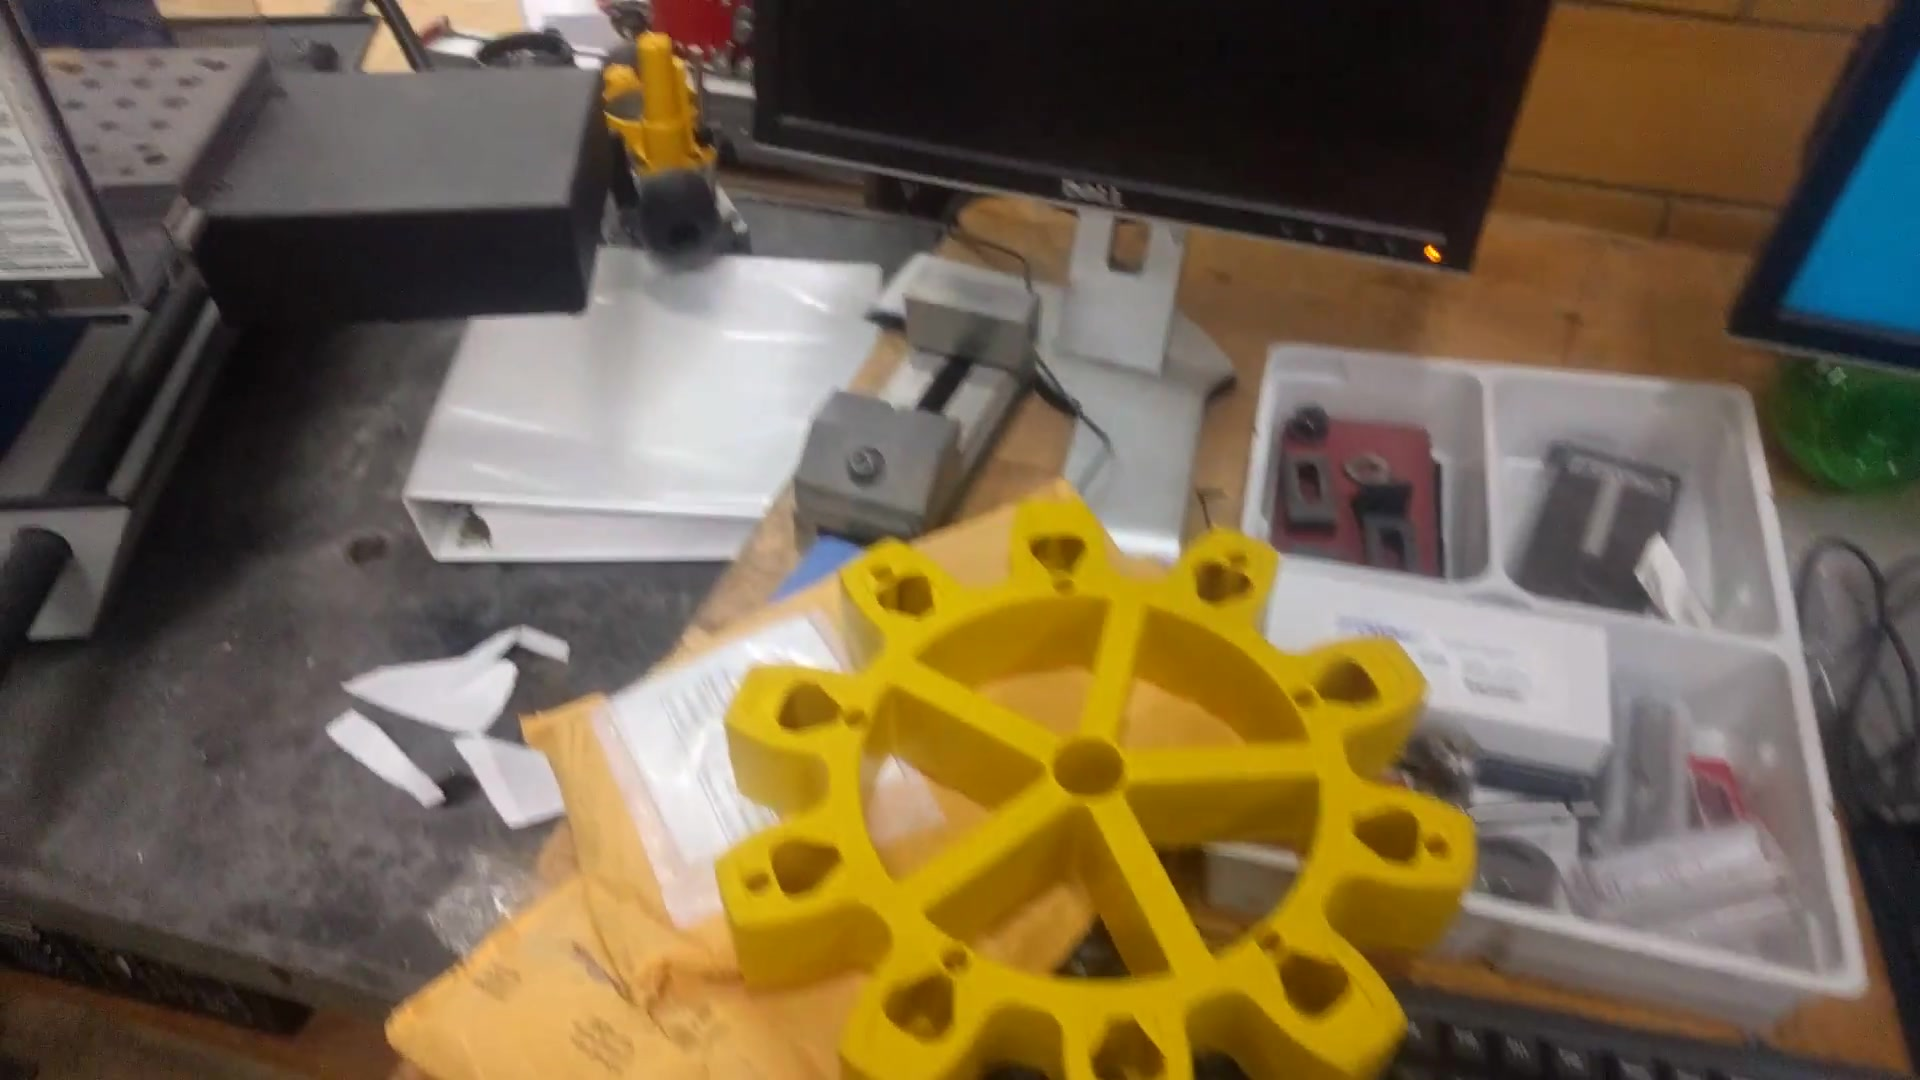gear: (666, 477, 1472, 1080)
